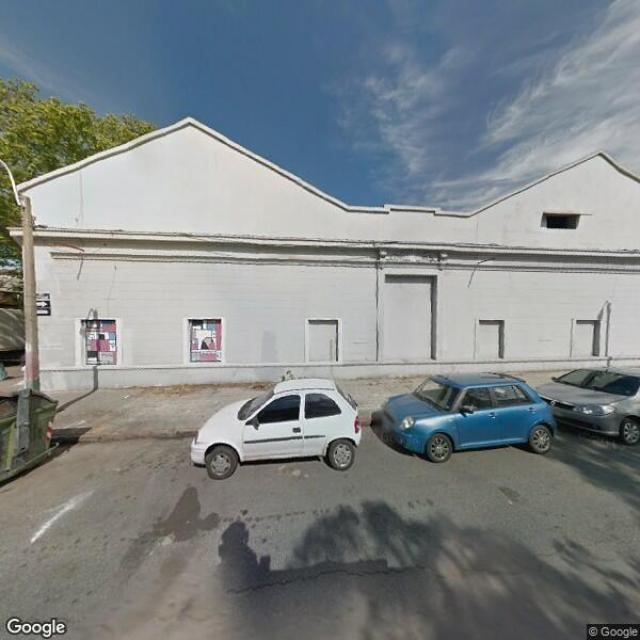garbage container: (1, 383, 69, 485)
